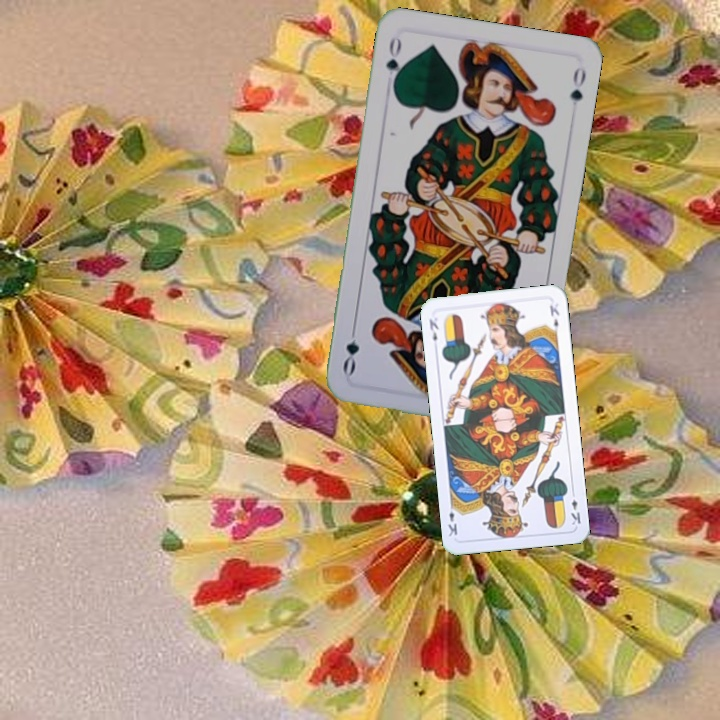EK: (567, 487, 583, 527), (425, 315, 441, 344)
GO: (381, 32, 405, 92)
